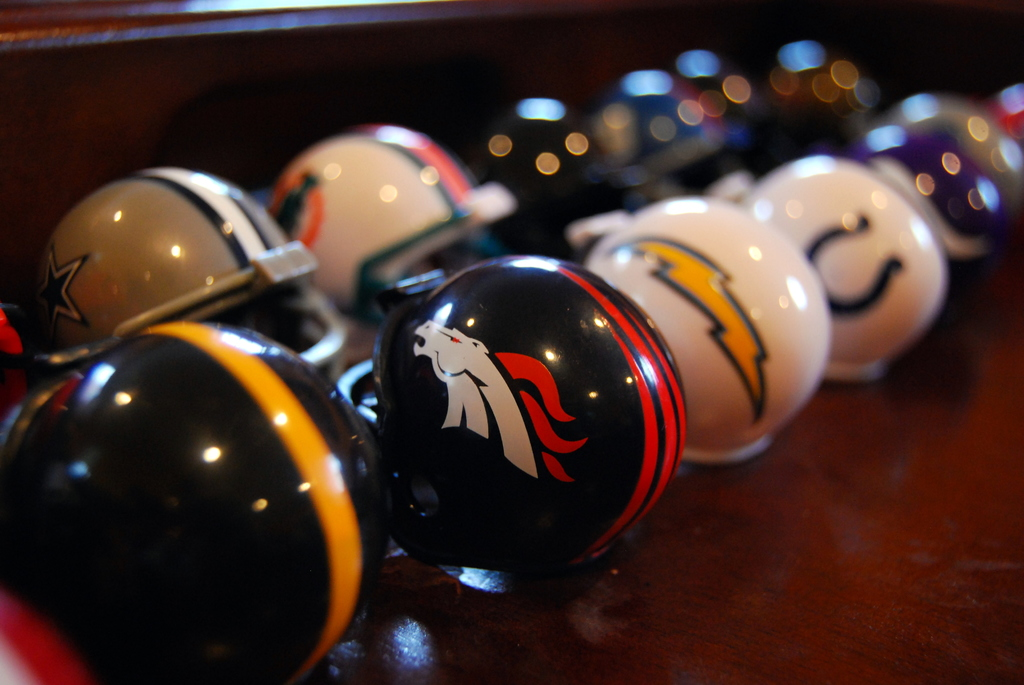Ball: (1, 37, 1023, 684)
